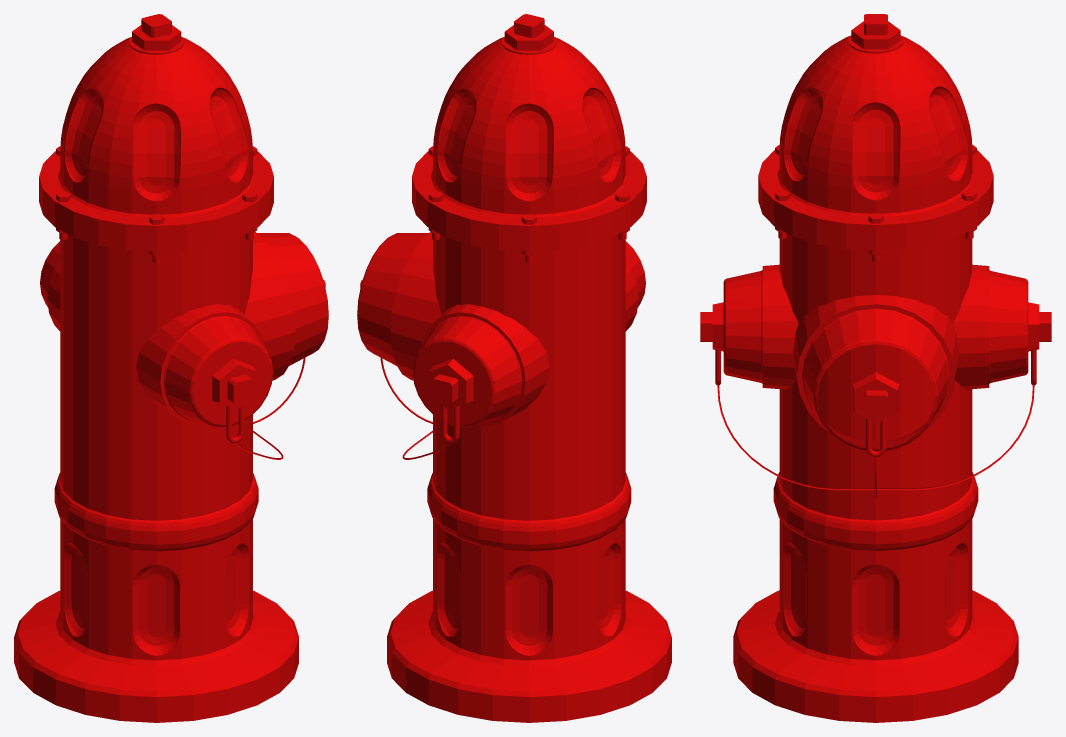
The model's file is hydrant.glb.
3 renders of one model, left to right at view 1: azimuth 30°, elevation 25°; view 2: azimuth 150°, elevation 25°; view 3: azimuth 270°, elevation 25°, orthographic.
Visible parts, largest first — view 1: Mesh1 Group1 Model, Mesh13 Group1 Model, Mesh11 Group1 Model, Mesh10 Group1 Model; view 2: Mesh1 Group1 Model, Mesh10 Group1 Model, Mesh11 Group1 Model, Mesh13 Group1 Model; view 3: Mesh1 Group1 Model, Mesh11 Group1 Model, Mesh10 Group1 Model, Mesh13 Group1 Model, Mesh12 Group1 Model.
Part boxes in pixels (x1=…): Mesh1 Group1 Model: x1=14, y1=14, x2=298, y2=722; Mesh13 Group1 Model: x1=136, y1=304, x2=273, y2=427; Mesh11 Group1 Model: x1=244, y1=232, x2=328, y2=380; Mesh10 Group1 Model: x1=40, y1=241, x2=60, y2=331; Mesh1 Group1 Model: x1=387, y1=14, x2=671, y2=722; Mesh10 Group1 Model: x1=412, y1=304, x2=549, y2=427; Mesh11 Group1 Model: x1=357, y1=232, x2=441, y2=380; Mesh13 Group1 Model: x1=625, y1=241, x2=645, y2=331; Mesh1 Group1 Model: x1=733, y1=14, x2=1018, y2=722; Mesh11 Group1 Model: x1=793, y1=295, x2=958, y2=451; Mesh10 Group1 Model: x1=953, y1=264, x2=1051, y2=389; Mesh13 Group1 Model: x1=700, y1=264, x2=798, y2=389; Mesh12 Group1 Model: x1=717, y1=385, x2=1034, y2=490.
Size of the model in its own units: 0.4667 by 0.9999 by 0.4947.
